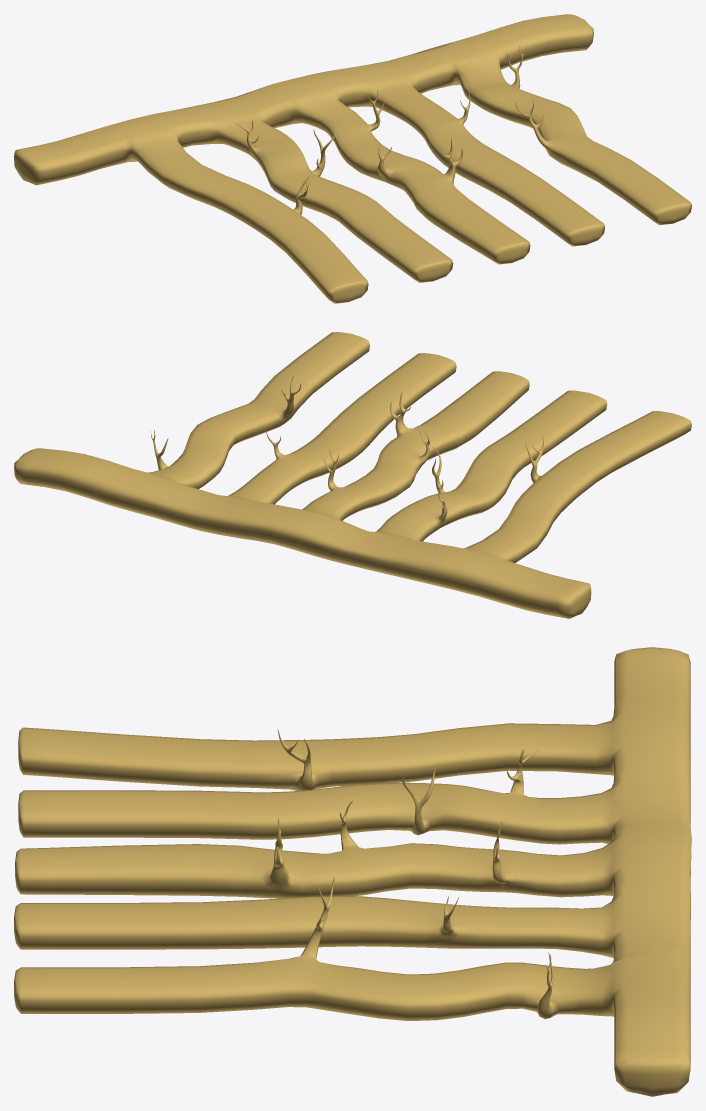
The model's file is first_envi_konar.fbx.
3 renders of one model, top to bottom at view 1: azimuth 30°, elevation 25°; view 2: azimuth 150°, elevation 25°; view 3: azimuth 270°, elevation 25°, orthographic. The views are drawn at different scales.
Parts seen in each view (by area): view 1: Cube_002; view 2: Cube_002; view 3: Cube_002.
Part boxes in pixels (box(x1,y1,x2,y2)): Cube_002: box(14, 14, 691, 303); Cube_002: box(14, 332, 691, 618); Cube_002: box(14, 647, 691, 1096).
Bounding box in the file's own units: 25.9 × 2.94 × 17.77.
